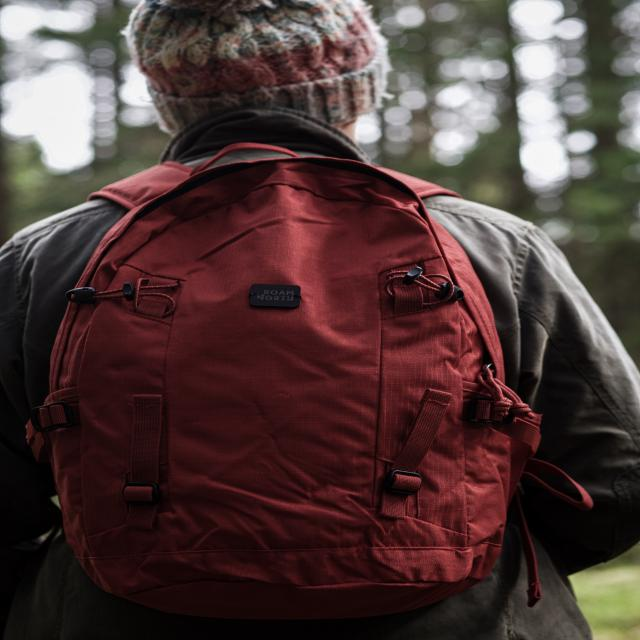backpack: (43, 159, 538, 613)
